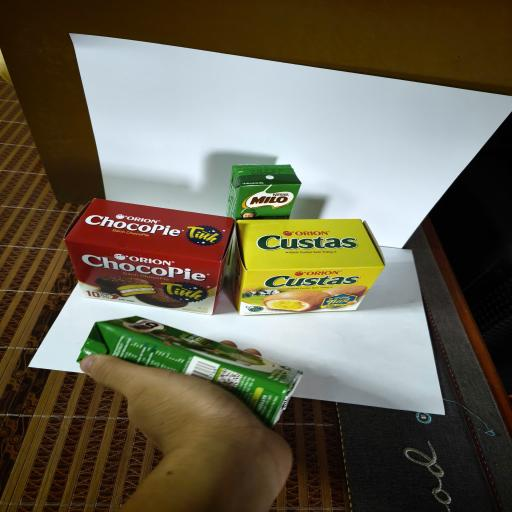chocopie: (64, 198, 235, 315)
custas: (230, 219, 386, 316)
milo: (76, 316, 303, 428), (226, 164, 302, 220)
